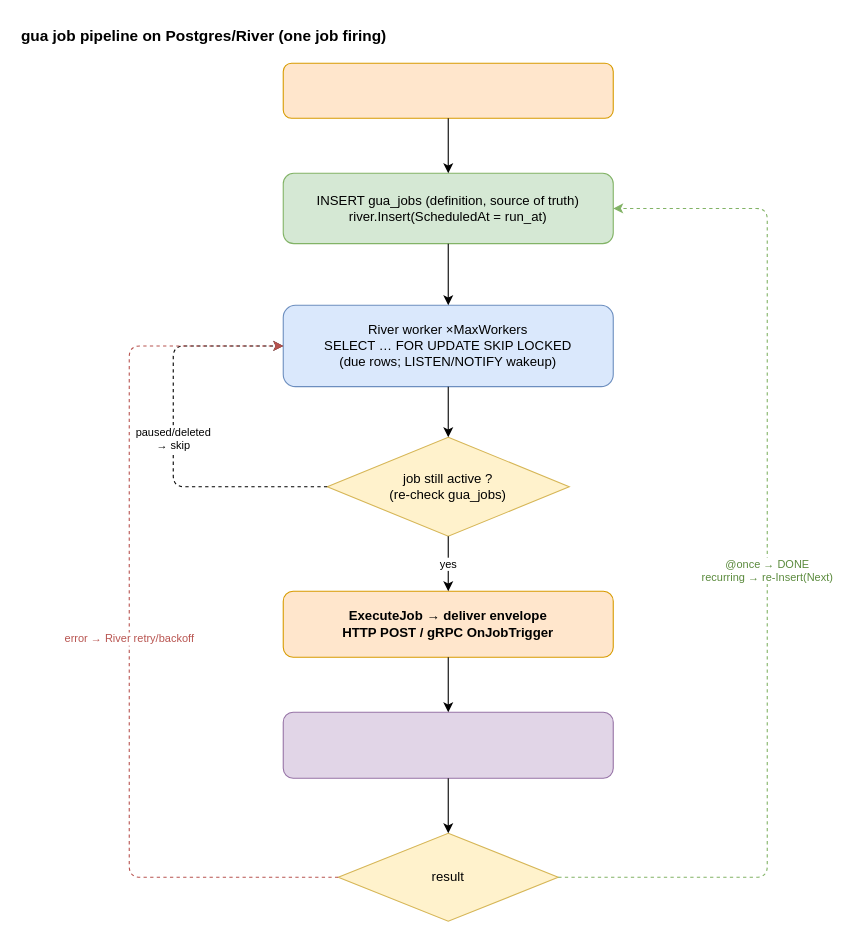
Image size: 851x941. Some labels were removed from this diagram. Here are the shapes that lost their labels. From the top down, the centre of each, then its label:
(447,90): AddJob (HTTP REST / gRPC GuaAdmin)
(447,744): INSERT gua_executions (every attempt) success/fail · timings · prune to TTL
